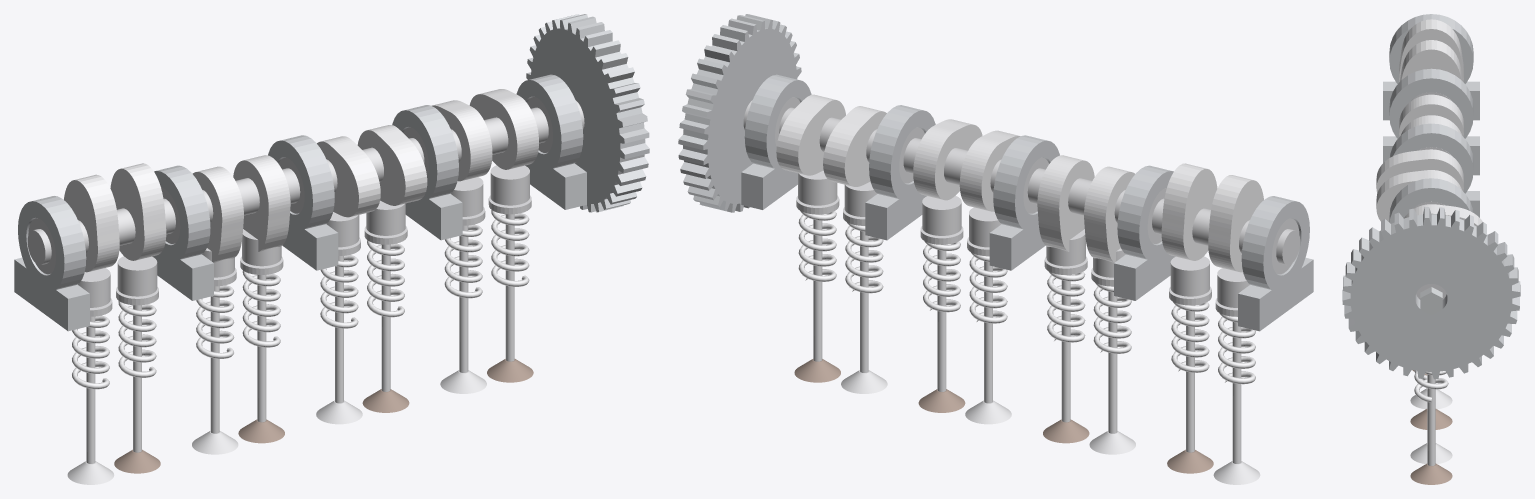
The model's file is arbol_levas.glb.
3 renders of one model, left to right at view 1: azimuth 30°, elevation 25°; view 2: azimuth 150°, elevation 25°; view 3: azimuth 270°, elevation 25°, orthographic. The views are drawn at different scales.
Parts seen in each view (by area): view 1: arbol, caballetes, valvulas, resortes, polea, botadores, platillos; view 2: arbol, caballetes, valvulas, resortes, polea, botadores, platillos; view 3: polea, caballetes, arbol, valvulas, resortes.
Boxes of the visible parts, box(x1,y1,x2,y2) form: arbol: box(27, 89, 584, 274); caballetes: box(14, 74, 586, 331); valvulas: box(67, 214, 533, 484); resortes: box(72, 210, 529, 389); polea: box(526, 14, 649, 212); botadores: box(78, 165, 529, 307); platillos: box(90, 195, 531, 316); arbol: box(743, 94, 1300, 274); caballetes: box(741, 74, 1313, 331); valvulas: box(794, 214, 1260, 484); resortes: box(798, 211, 1255, 384); polea: box(678, 14, 801, 212); botadores: box(798, 170, 1249, 307); platillos: box(796, 195, 1237, 316); polea: box(1342, 207, 1520, 379); caballetes: box(1383, 14, 1479, 223); arbol: box(1376, 19, 1482, 299); valvulas: box(1410, 370, 1452, 484); resortes: box(1414, 370, 1448, 402).
Size of the model in its own units: 3.71 by 2.03 by 1.1.
